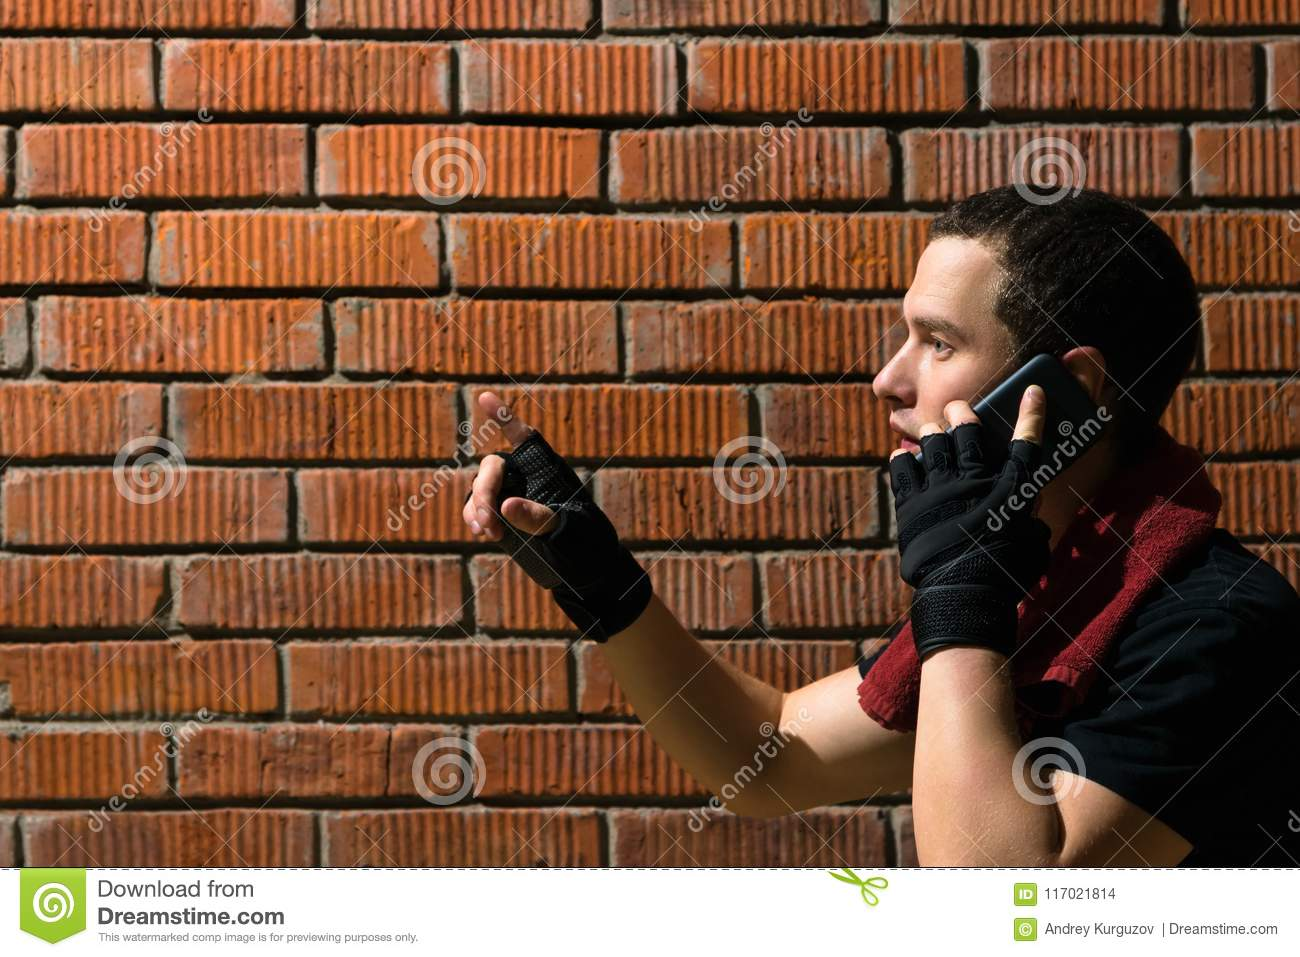phone: (894, 351, 1097, 528)
talk: (865, 308, 1102, 634)
